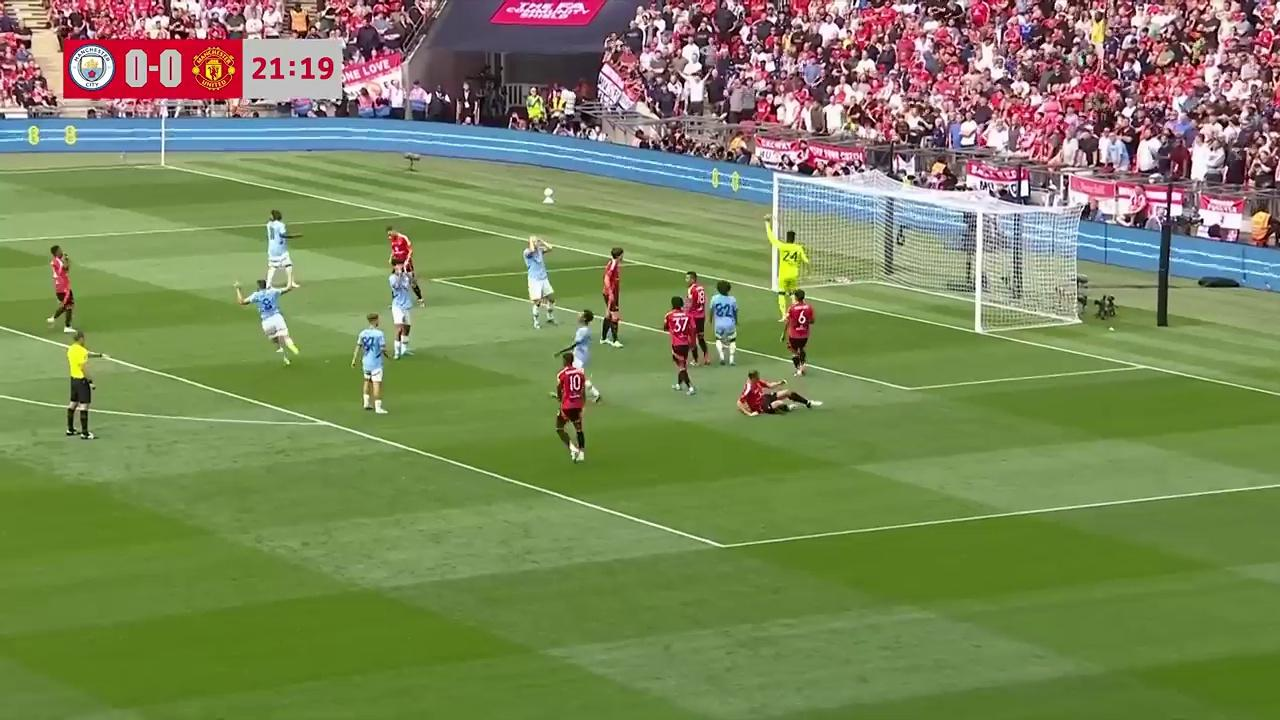player: (235, 276, 299, 363), (550, 352, 597, 463), (350, 313, 391, 412), (736, 368, 816, 418), (772, 229, 807, 319), (663, 301, 696, 394), (265, 209, 301, 289), (523, 240, 555, 329), (783, 294, 815, 378), (387, 268, 416, 359), (709, 281, 739, 364), (601, 247, 624, 348), (47, 245, 74, 331), (681, 270, 710, 339), (571, 311, 595, 383), (386, 226, 415, 284)
referee: (64, 331, 96, 440)
